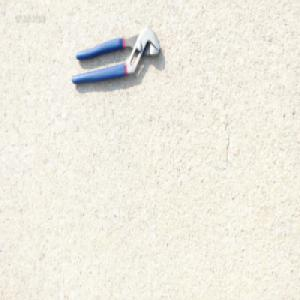Pliers: (70, 25, 161, 86)
